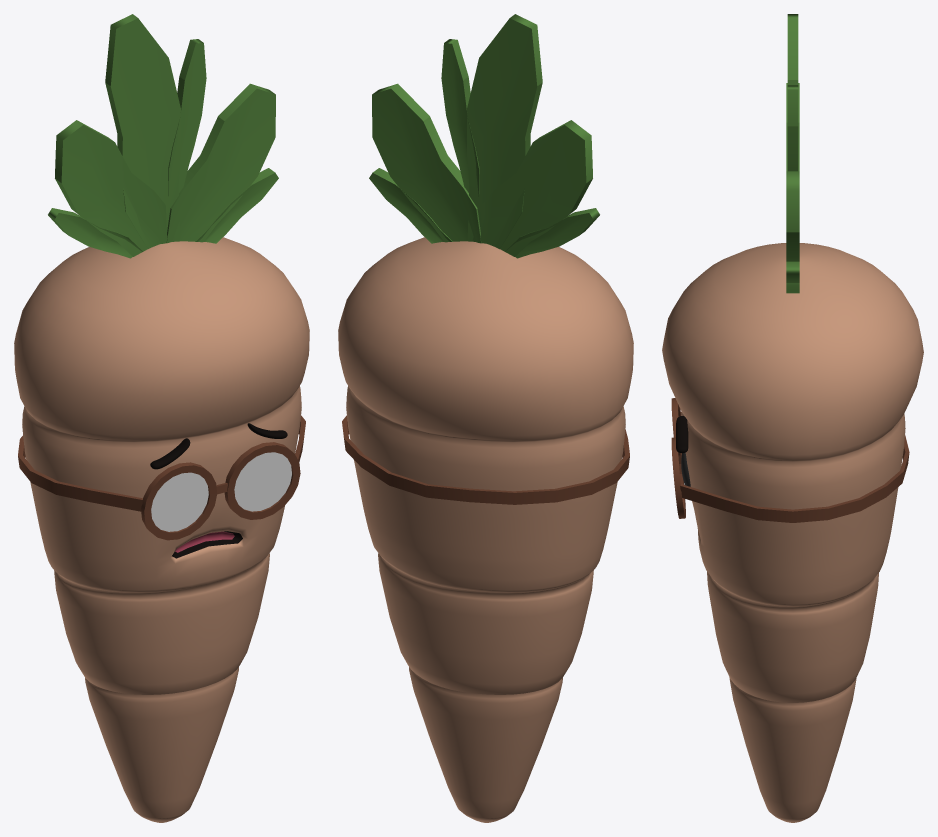
File: Alive_Carrot.fbx
3 renders of one model, left to right at view 1: azimuth 30°, elevation 25°; view 2: azimuth 150°, elevation 25°; view 3: azimuth 270°, elevation 25°, orthographic. The views are drawn at different scales.
Visible parts, largest first — view 1: pCylinder1, pCube4, pCube3, pCube2, polySurface7, pCube6, pDisc2, pDisc1, pCube5, pCube7, pCube1; view 2: pCylinder1, pCube4, pCube3, pCube2, polySurface7, pCube6, pCube5, pCube7; view 3: pCylinder1, polySurface7, pCube3, pCube6, pCube4.
Boxes of the visible parts, x1,y1,x2,y2 form: pCylinder1: [14, 237, 309, 822]; pCube4: [105, 14, 180, 248]; pCube3: [166, 83, 275, 243]; pCube2: [55, 120, 167, 256]; polySurface7: [18, 415, 305, 540]; pCube6: [168, 39, 206, 195]; pDisc2: [234, 452, 291, 511]; pDisc1: [151, 472, 208, 531]; pCube5: [48, 208, 142, 258]; pCube7: [195, 168, 278, 243]; pCube1: [150, 423, 287, 469]; pCylinder1: [338, 237, 633, 822]; pCube4: [467, 14, 542, 249]; pCube3: [372, 83, 481, 243]; pCube2: [480, 120, 592, 256]; polySurface7: [342, 415, 629, 504]; pCube6: [441, 39, 479, 196]; pCube5: [505, 208, 599, 258]; pCube7: [369, 168, 452, 243]; pCylinder1: [662, 243, 923, 822]; polySurface7: [671, 398, 909, 522]; pCube3: [786, 171, 799, 261]; pCube6: [787, 85, 798, 171]; pCube4: [787, 14, 798, 85].
Size of the model in its own units: 1.94 by 5.69 by 1.71.
